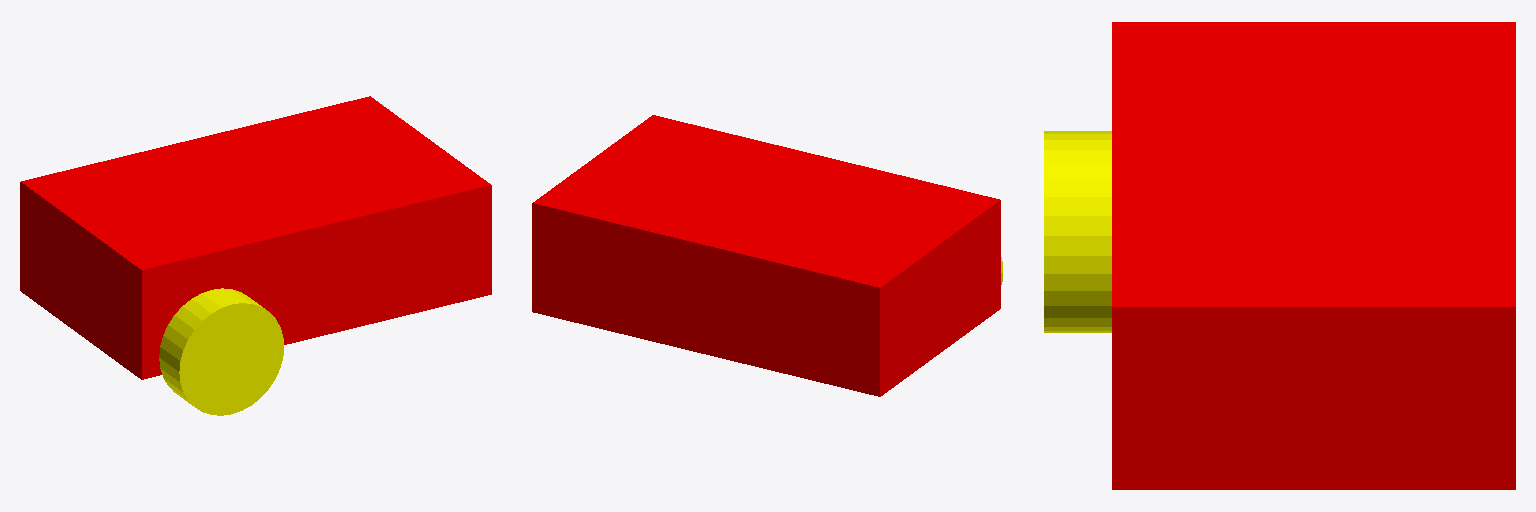
The robot description file, URDF, robot "ros_dd":
<?xml version="1.0" ?>
<robot name="ros_dd">
    <!-- robot body link  -->
    <link name="body_link">
        <visual>
            <origin rpy="0 0 0" xyz="0 0 0"/> <!-- rpy: roll pitch yaw origin: origin point-->
            <geometry>
                <box size="1 0.6 0.3"/>  <!-- box size -->
            </geometry>
            <material name="red">
                <color rgba="1 0 0 1"/>
            </material>
        </visual>
    </link>
     <joint name="wheel1_joint" type="continuous">
        <parent link="body_link"/>
        <child link="wheel1_link" />
        <origin xyz="-0.3 -0.35 -0.1" rpy="0 0 0"/>
        <axis xyz="0 1 0" />
    </joint>
    <link name="wheel1_link">
        <visual>
            <origin rpy="1.570795 0 0" xyz="0 0 0"/>
            <geometry>
                <cylinder length="0.1" radius="0.15"/>
            </geometry>
            <material name="yellow">
                <color rgba="1 1 0 1"/>
            </material>
        </visual>
    </link>
</robot>

--- Facts derived from the render (not from the file) ---
Views: 3 orthographic renders of the robot side by side, from view 1: azimuth 30°, elevation 25°; view 2: azimuth 150°, elevation 25°; view 3: azimuth 270°, elevation 25°.
Model ros_dd with 2 links and 1 joints (1 continuous), rooted at body_link, posed every joint at zero.
Visible links, largest first — view 1: body_link, wheel1_link; view 2: body_link; view 3: body_link, wheel1_link.
Link boxes in pixels (box(x1,y1,x2,y2)): body_link: box(20, 96, 491, 379); wheel1_link: box(159, 288, 283, 415); body_link: box(532, 115, 1000, 396); body_link: box(1112, 22, 1515, 489); wheel1_link: box(1044, 131, 1111, 332).
Bounding box of the posed robot: 1 × 0.7 × 0.4 m (x, y, z).
Geometry: primitives only (box / cylinder / sphere), no mesh files.